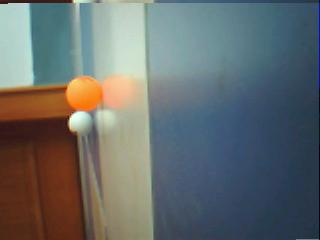oball: (66, 77, 103, 109)
